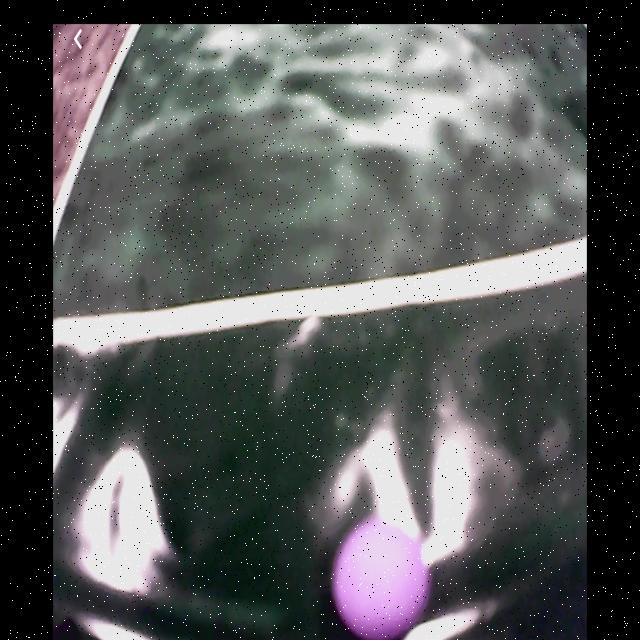ball: (332, 520, 432, 640)
